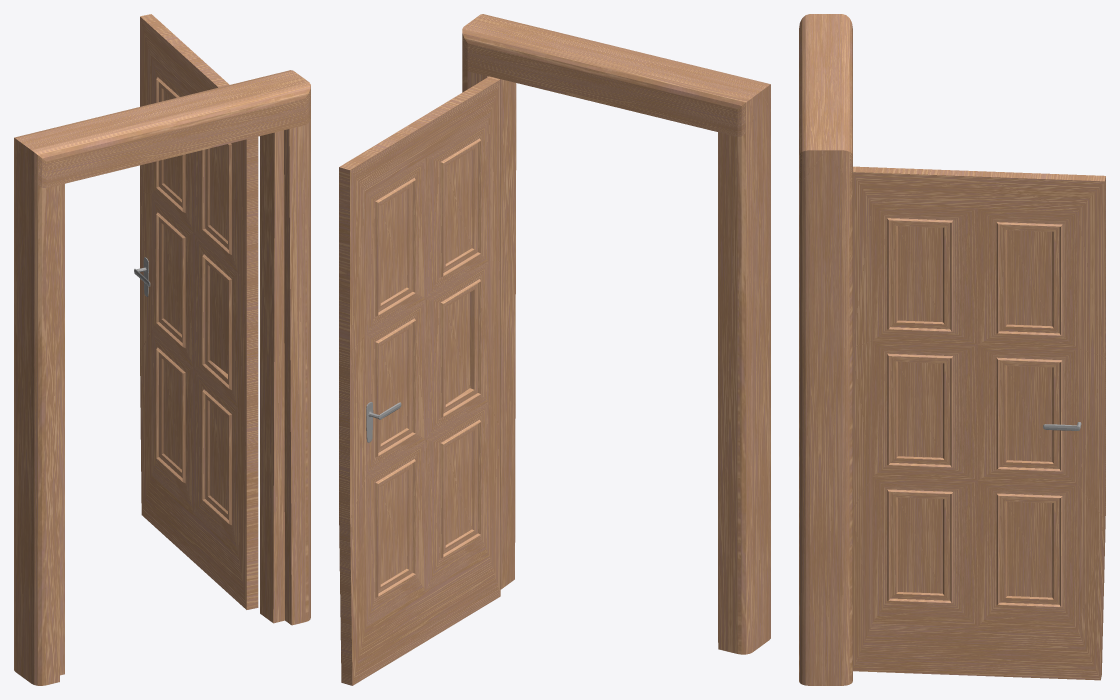
File: wooden_door_open2.dae
3 views of the same model, side by side, from view 1: azimuth 30°, elevation 25°; view 2: azimuth 150°, elevation 25°; view 3: azimuth 270°, elevation 25° (orthographic). The views are drawn at different scales.
Parts seen in each view (by area): view 1: Door, Wood Board; view 2: Wood Board, Door; view 3: Wood Board, Door.
Part boxes in pixels (x1=…): Door: x1=14, y1=70, x2=310, y2=685; Wood Board: x1=140, y1=14, x2=258, y2=609; Wood Board: x1=339, y1=76, x2=500, y2=685; Door: x1=462, y1=14, x2=770, y2=654; Wood Board: x1=853, y1=166, x2=1105, y2=680; Door: x1=799, y1=14, x2=852, y2=685.
Size of the model in its own units: 1.2 by 1.14 by 2.2.
